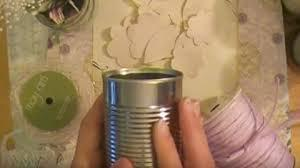Tin: (95, 58, 191, 168)
